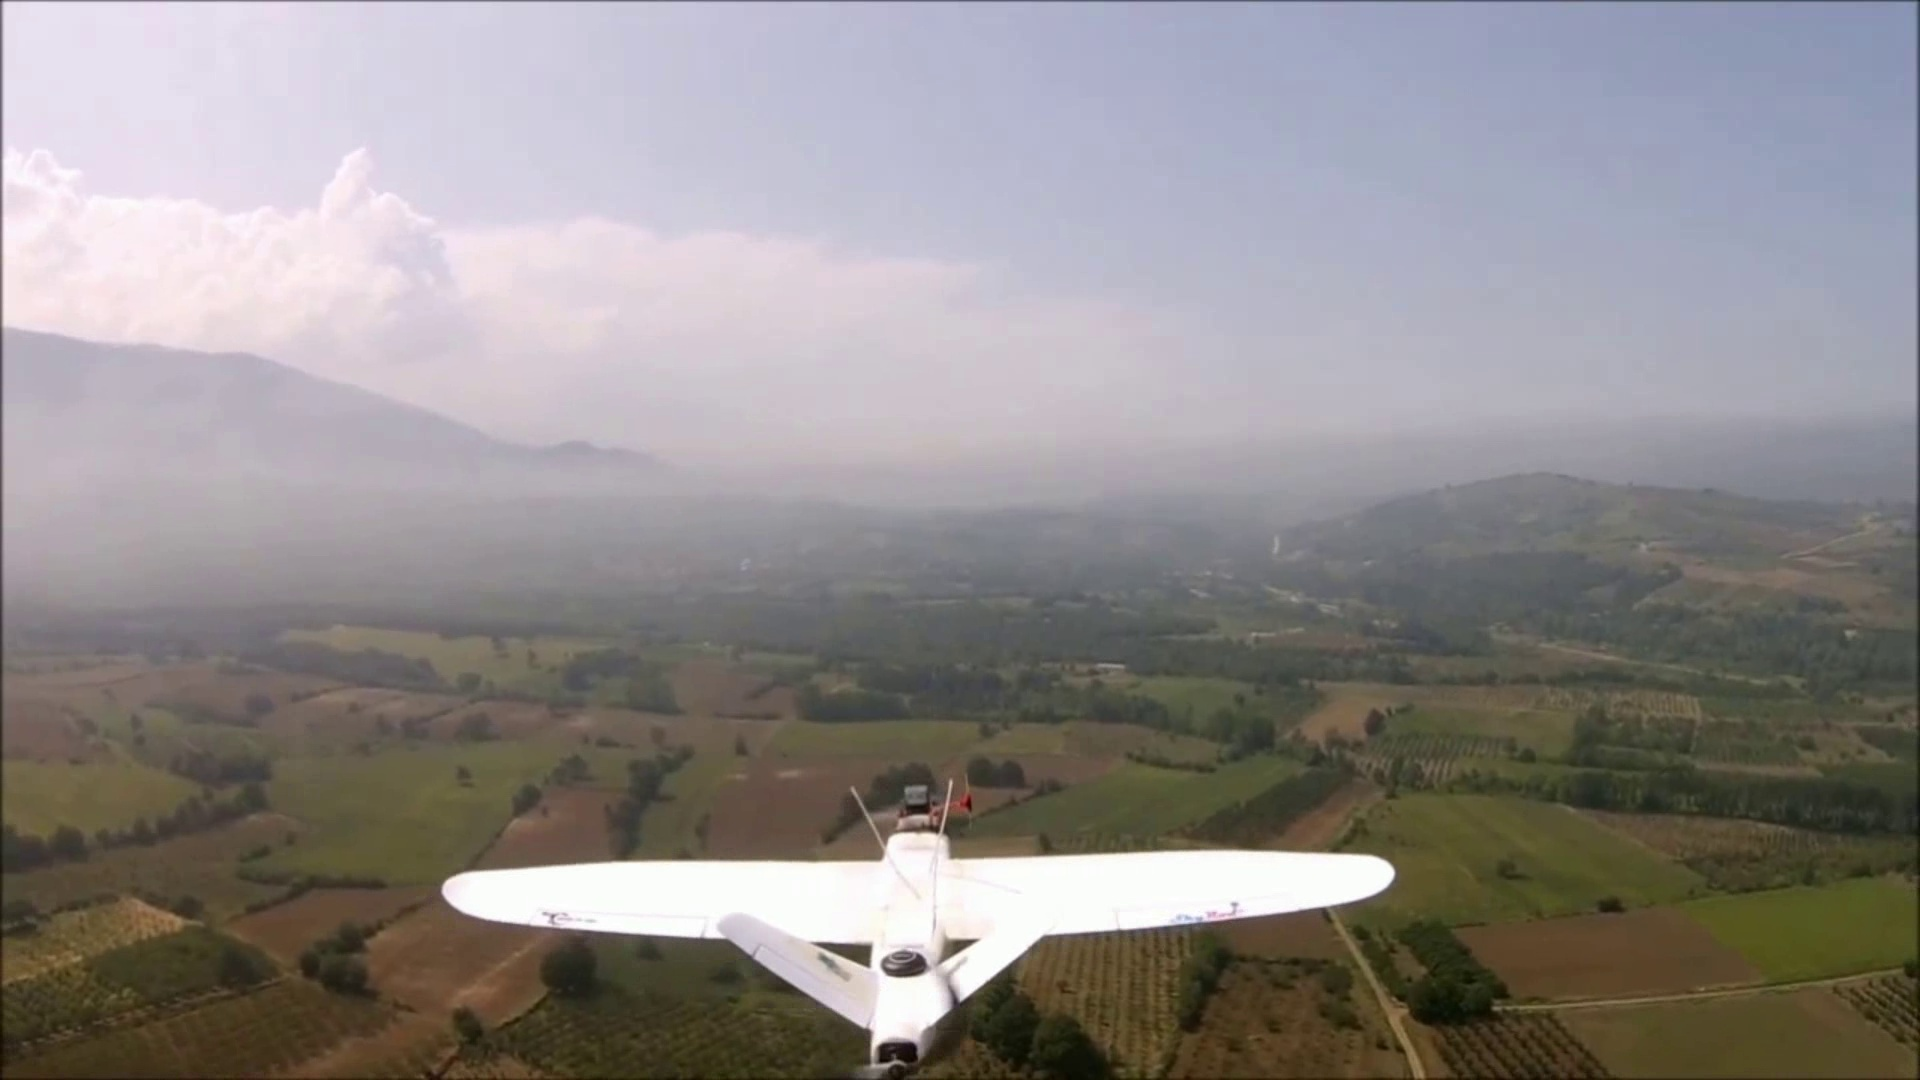airplane: (438, 769, 1398, 1069)
